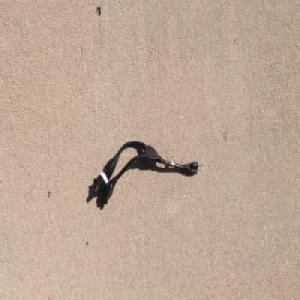Wire: (92, 139, 204, 205)
